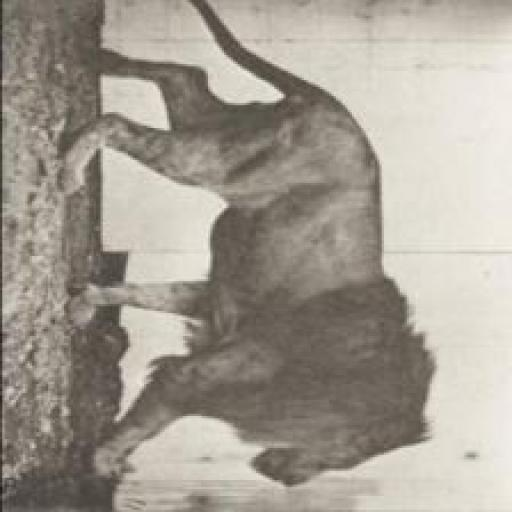lion: (34, 4, 459, 512)
